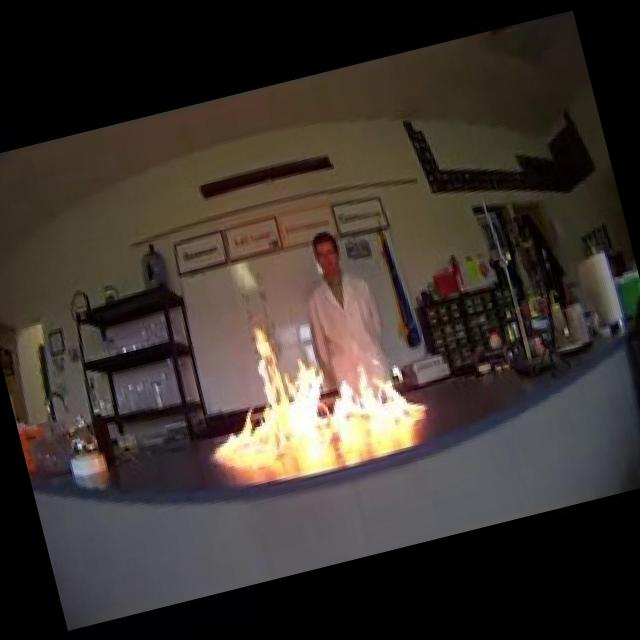Fire: (180, 288, 432, 468)
